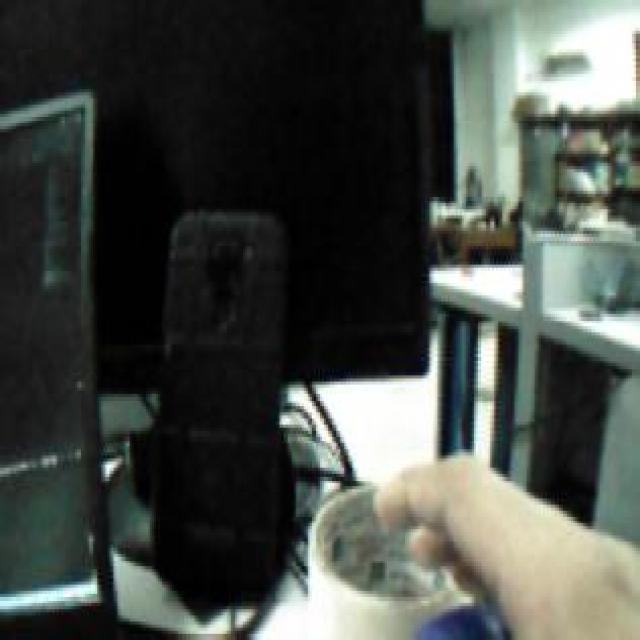BallPurple: (411, 606, 507, 640)
